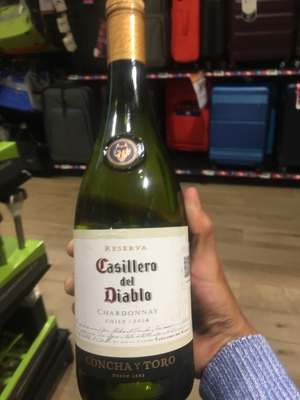casillero del diablo chardonnay: (71, 12, 210, 400)
